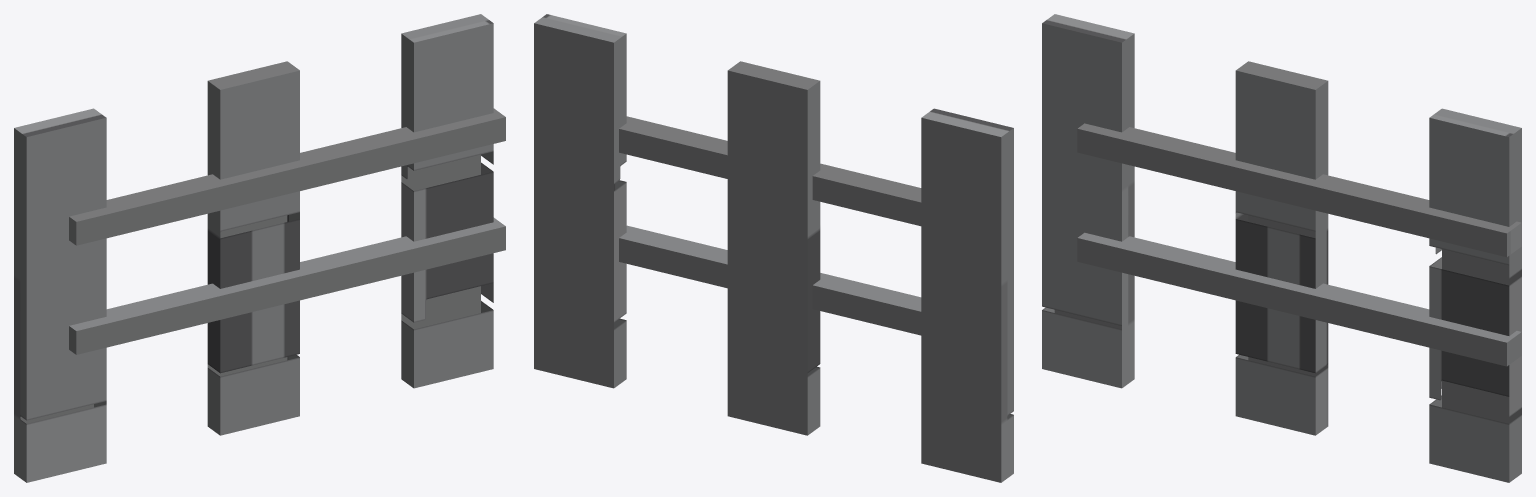
3 renders of one model, left to right at view 1: azimuth 30°, elevation 25°; view 2: azimuth 150°, elevation 25°; view 3: azimuth 330°, elevation 25°, orthographic.
Bounding box in the file's own units: 0.8953 × 0.6267 × 0.0653.
